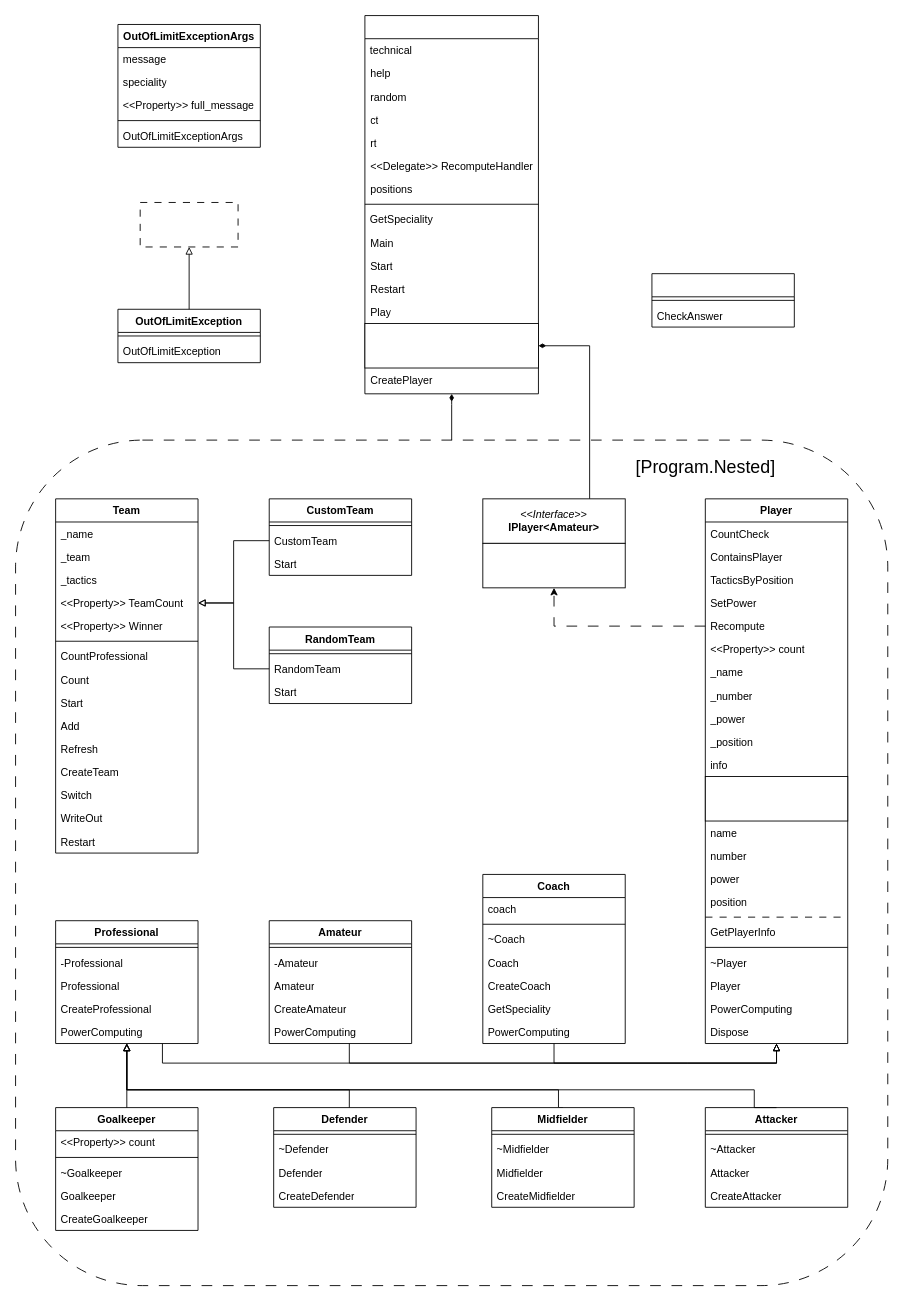
Image size: 903x1301. Some labels were removed from this diagram. The shapes that lost their labels are listed below. From the top down, each one's box as (x1, y1, x2, y2) in pixels, then its label:
(139, 202, 238, 247): Exception
(364, 15, 538, 394): Prorgam
(651, 273, 794, 327): ProgramExtension
(364, 323, 538, 368): <<Interface>> IPlayer<T>
(482, 542, 625, 588): <<Interface>> IPlayer<Professional>
(704, 776, 848, 821): <<Struct>> GetPlayerInfo
